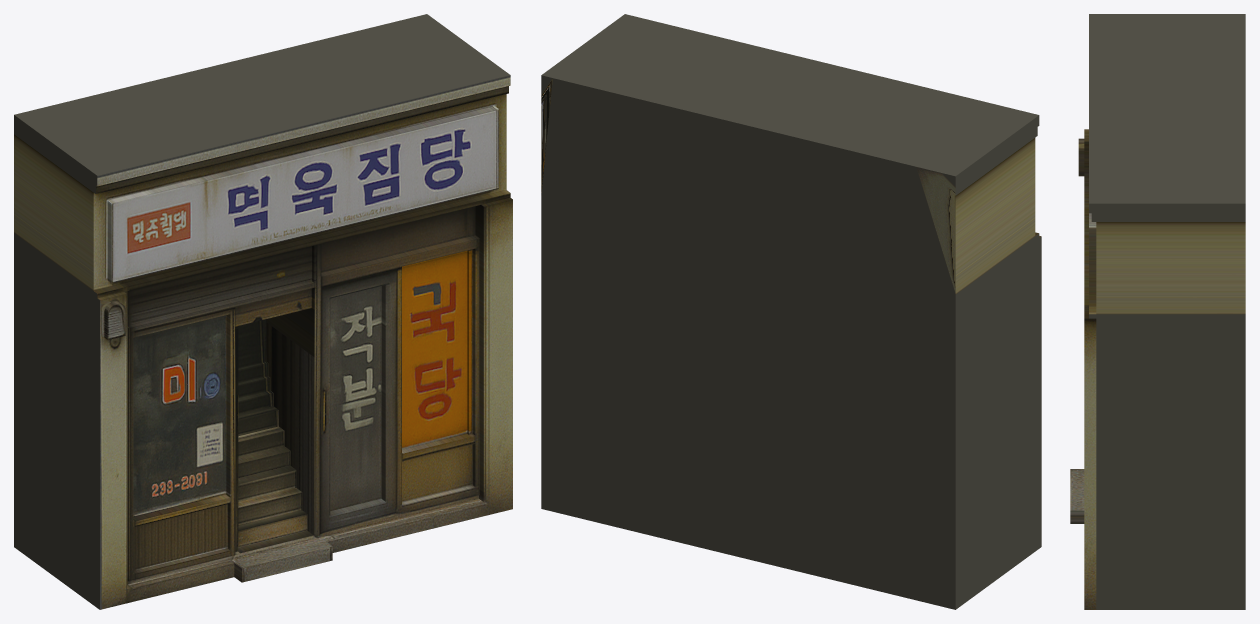
File: asian_shop_1.glb
3 renders of one model, left to right at view 1: azimuth 30°, elevation 25°; view 2: azimuth 150°, elevation 25°; view 3: azimuth 270°, elevation 25°, orthographic. The views are drawn at different scales.
Visible parts, largest first — view 1: Plane_0; view 2: Plane_0; view 3: Plane_0.
Boxes of the visible parts, x1=… form: Plane_0: x1=14, y1=14, x2=512, y2=609; Plane_0: x1=541, y1=14, x2=1041, y2=609; Plane_0: x1=1070, y1=14, x2=1245, y2=609.
Size of the model in its own units: 3 by 3 by 1.17.
Materials: 2 (2 with a texture image).
